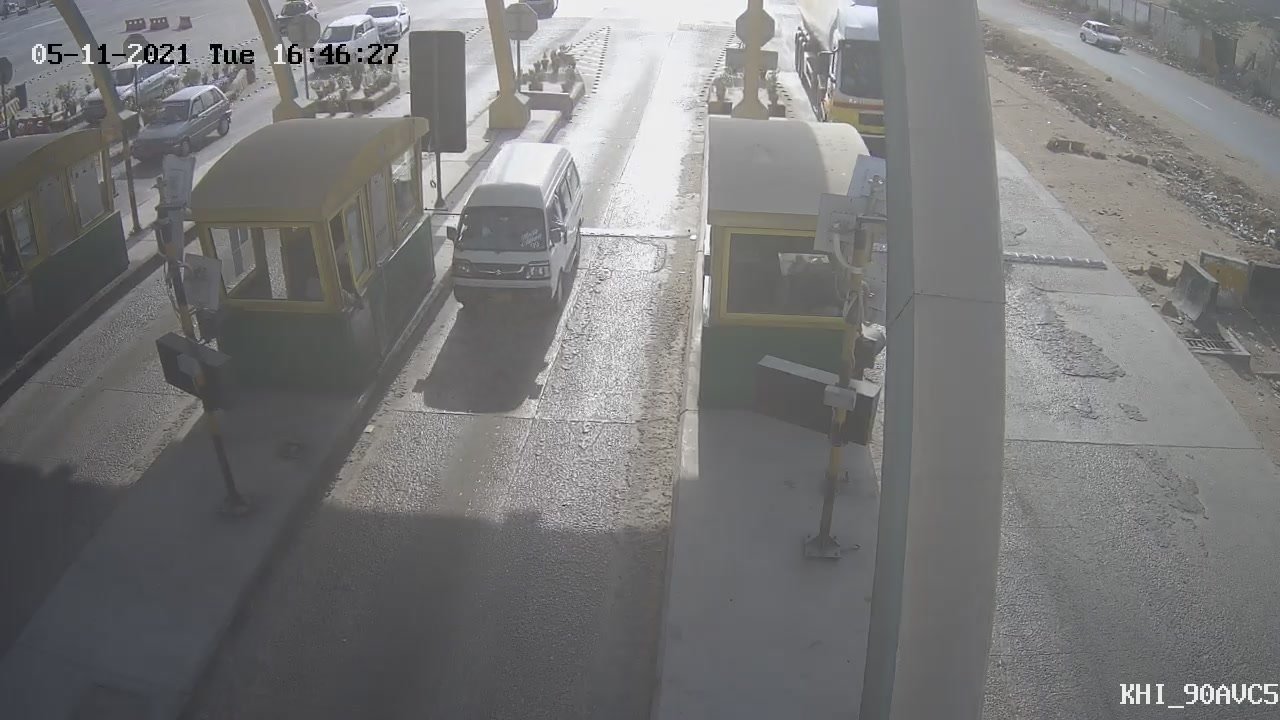F1: (426, 122, 605, 335)
